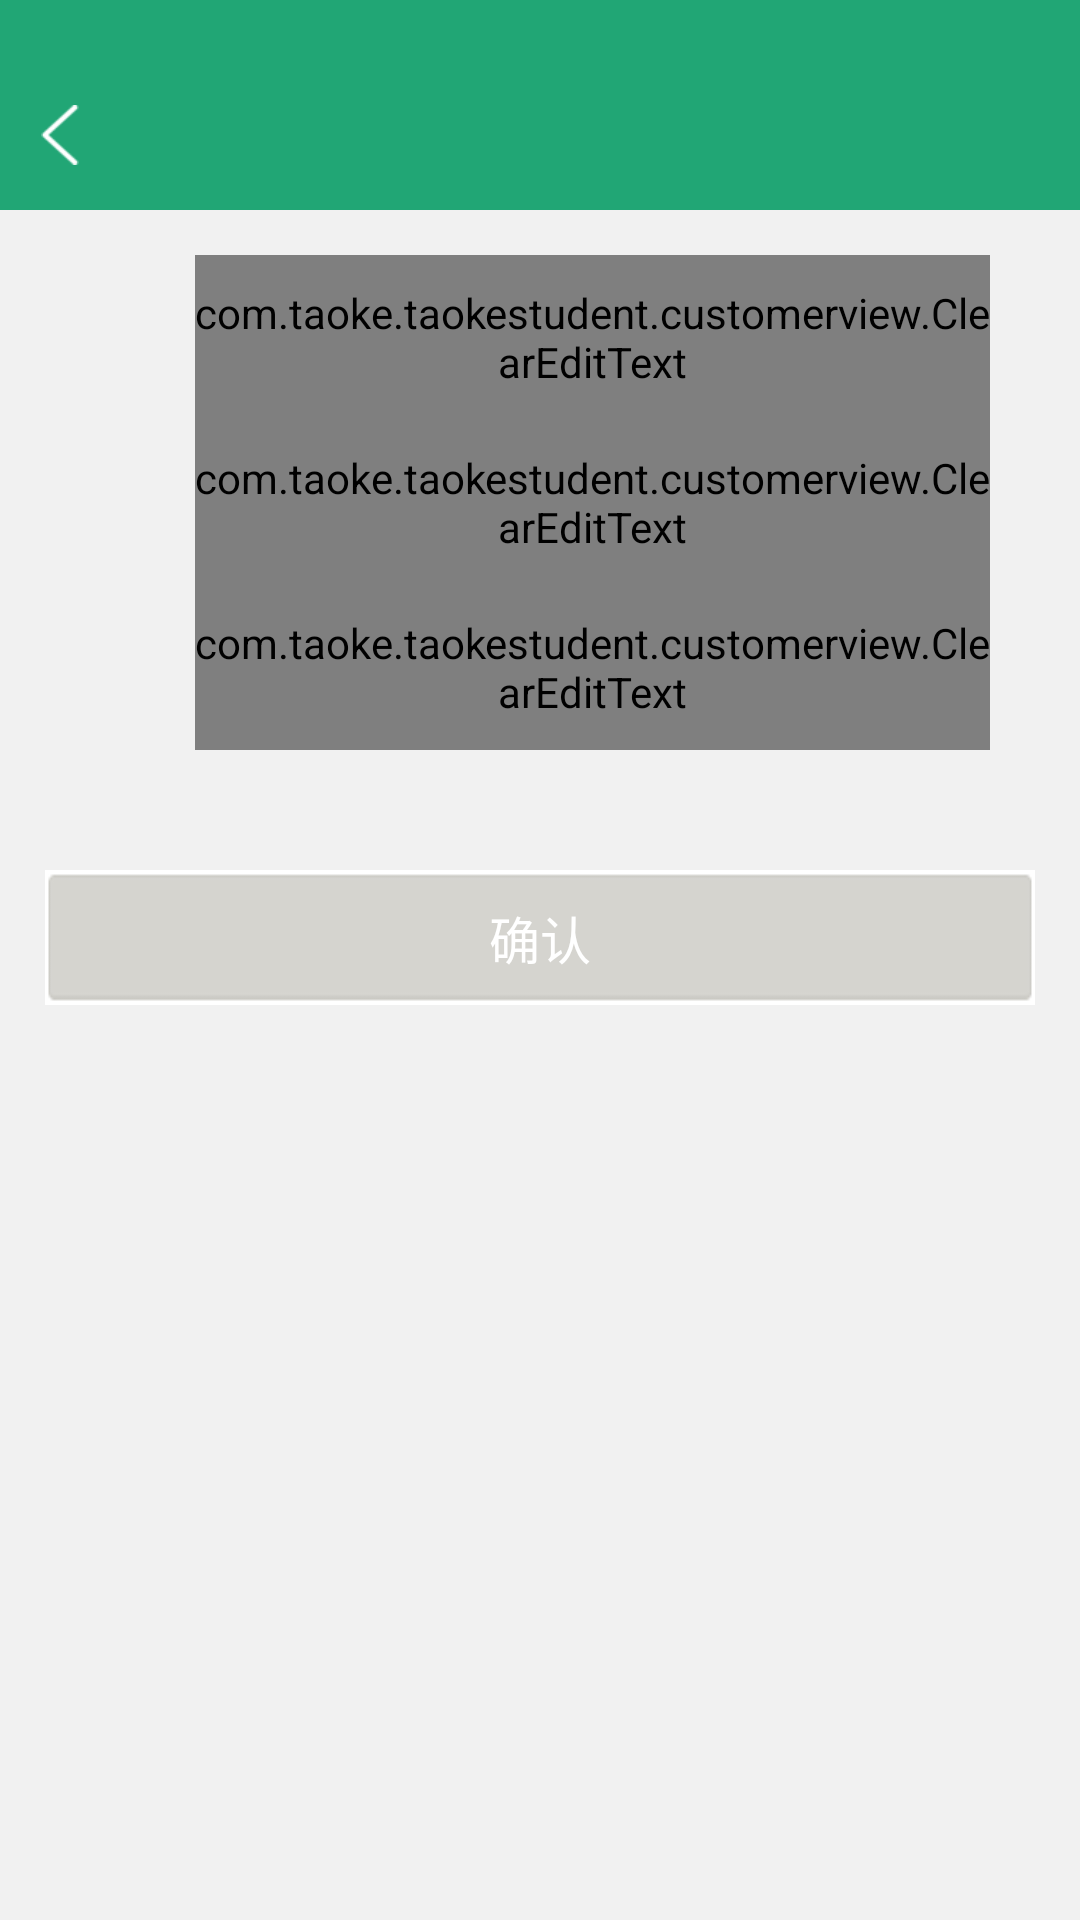

Locate icon controls on the screen. Image size 1080 × 1920, boxes as [x1,y1,x2,y2].
arrow left: [41,105,79,165]
